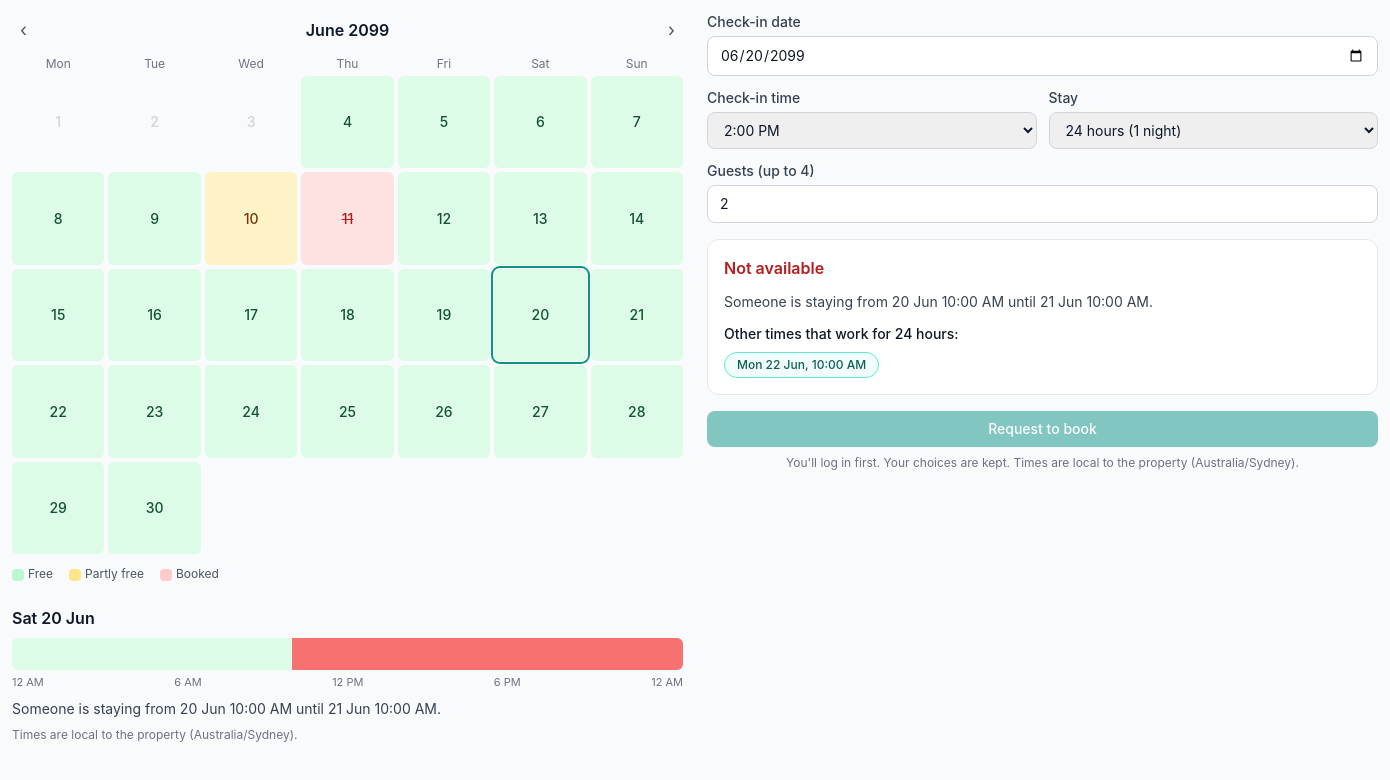
Test case: AvailabilityPanel › explains an unavailable period and lets you jump to an alternative
Expected: the text "Not available" is shown, [724,258,824,278]
Expected: the list item "Someone is staying from 20 Jun 10:00 AM until 21 Jun 10:00 AM." is shown, [12,700,441,717]
Step 1. Click the button "Mon 22 Jun, 10:00 AM" → (802, 365), box [724,352,879,378]
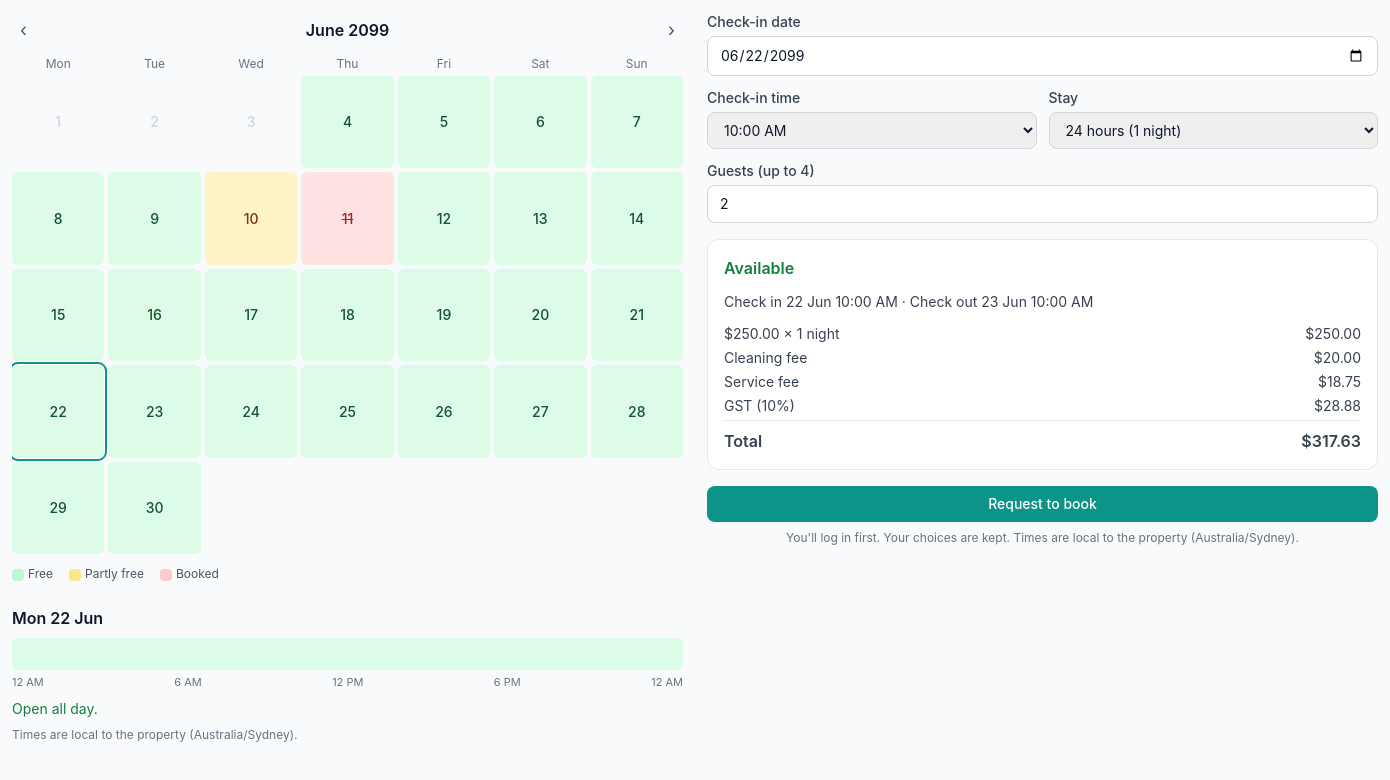
Result: the element named "Price breakdown" is shown at [724,324,1361,453]
Result: the date field labelled "Check-in date" holds "2099-06-22" at [707,36,1378,76]
Result: the dropdown labelled "Check-in time" shows "10:00 AM" at [707,112,1036,149]
